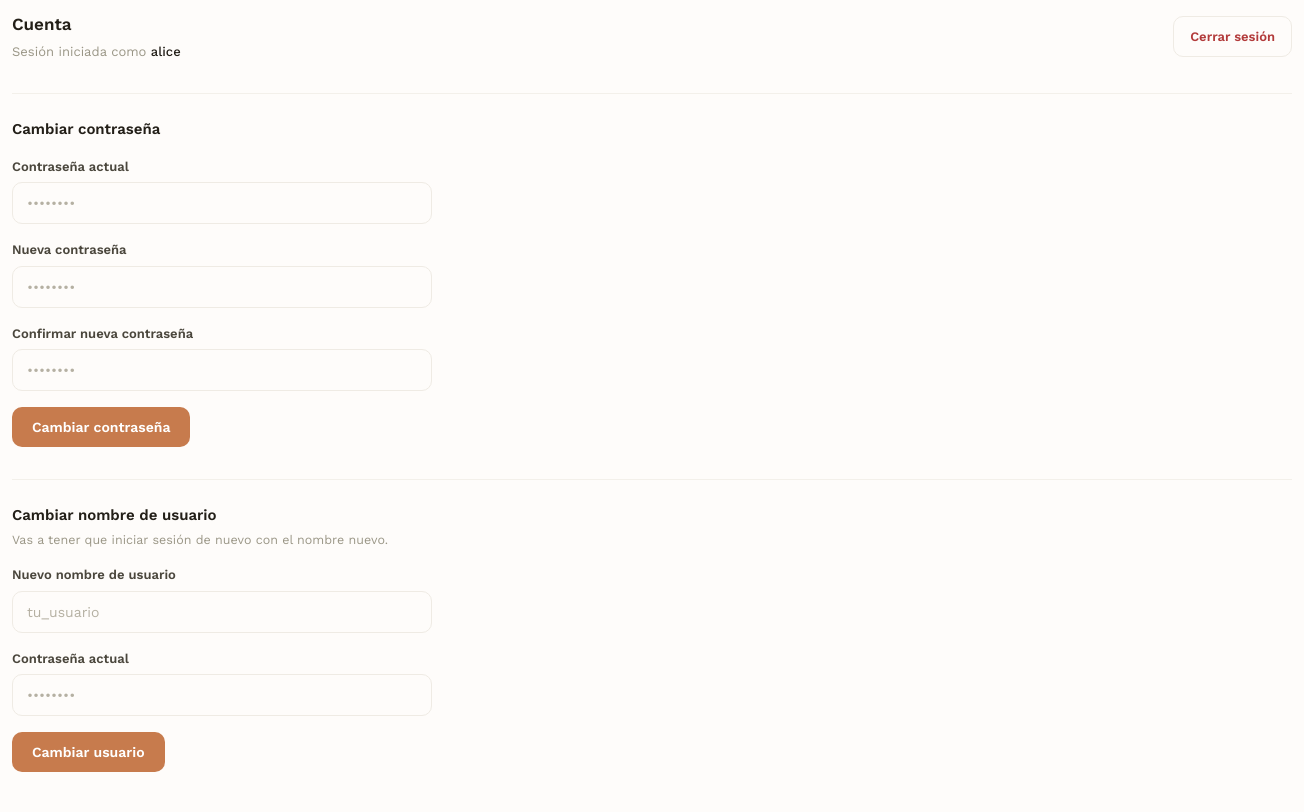
Scenario: CuentaTab › submits the change-password form and shows a success message
Type "current" into the 1st password field with placeholder "••••••••" at point(222, 203), box [12,182,432,224]
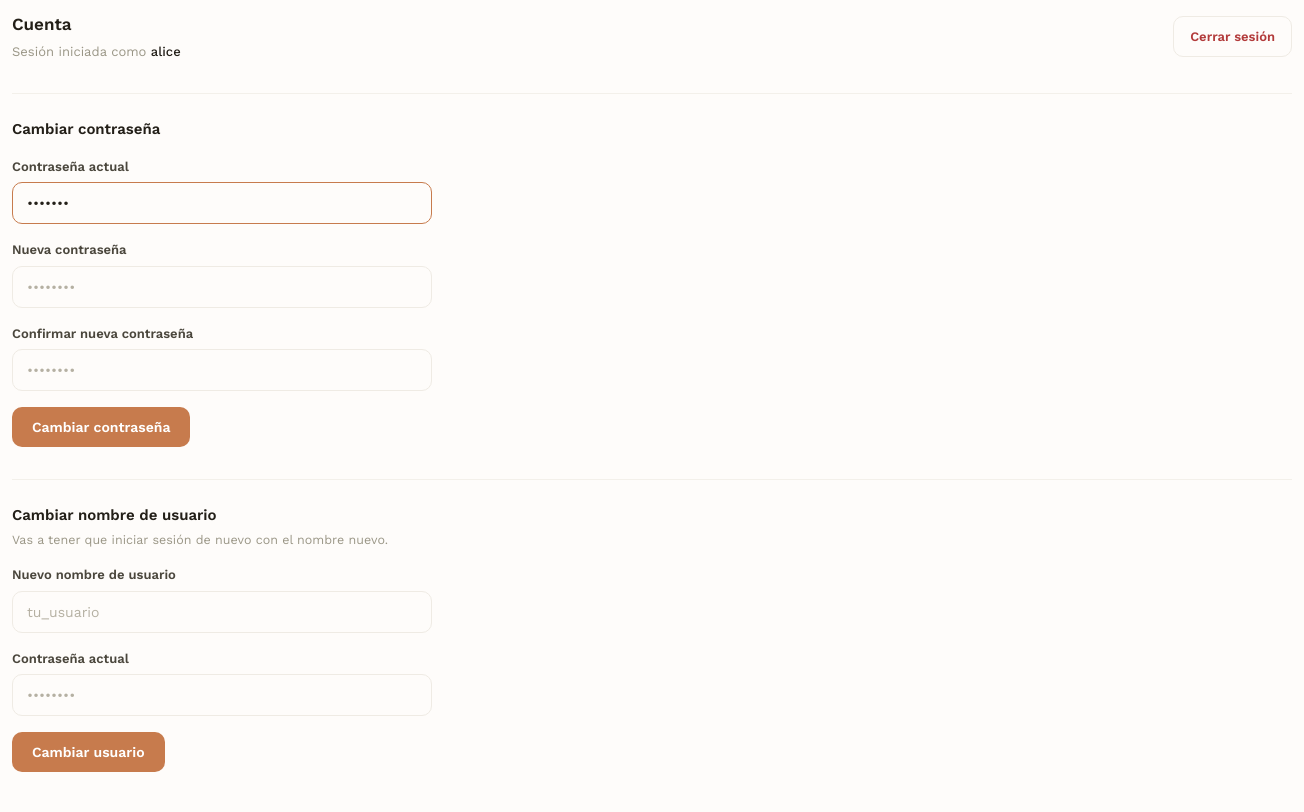
Type "newpassword" into the password field with placeholder "••••••••" at point(222, 286), box [12,266,432,308]
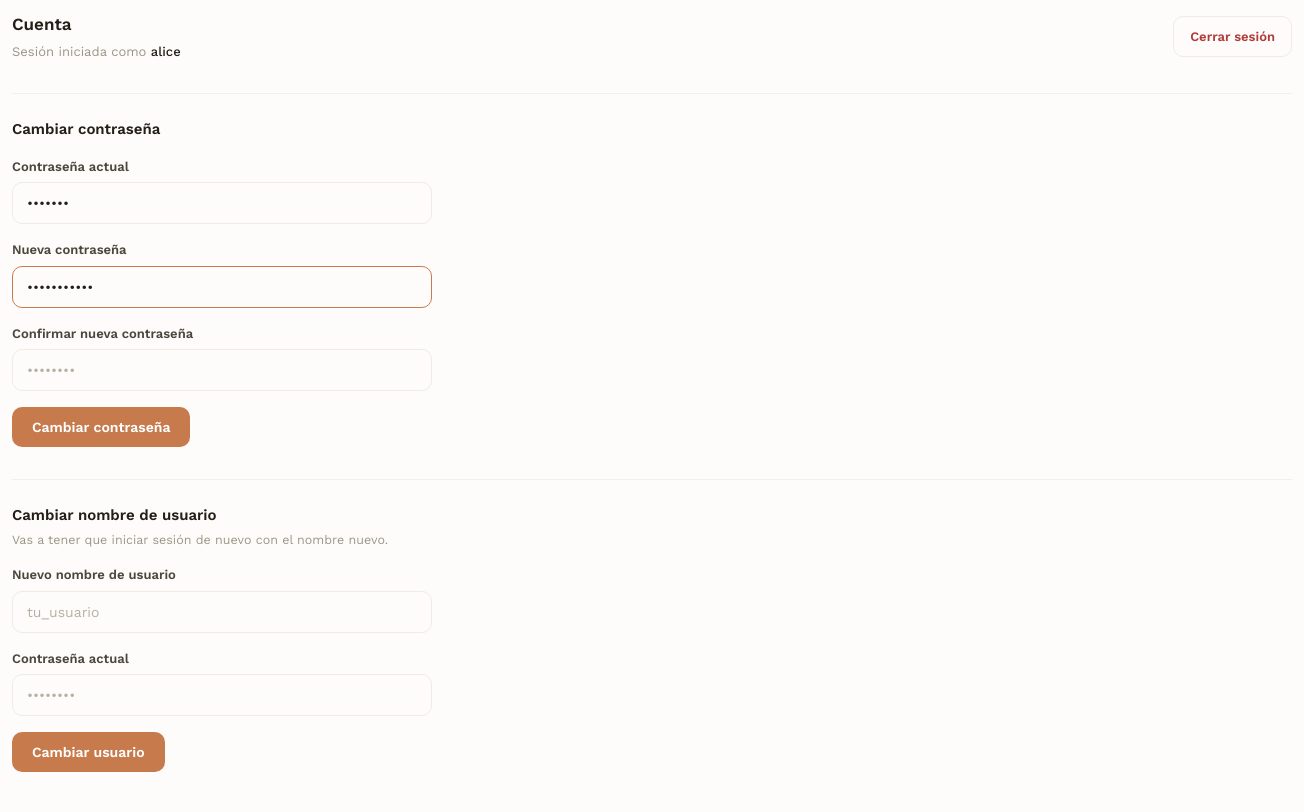
Type "newpassword" into the password field with placeholder "••••••••" at point(222, 370), box [12,349,432,391]
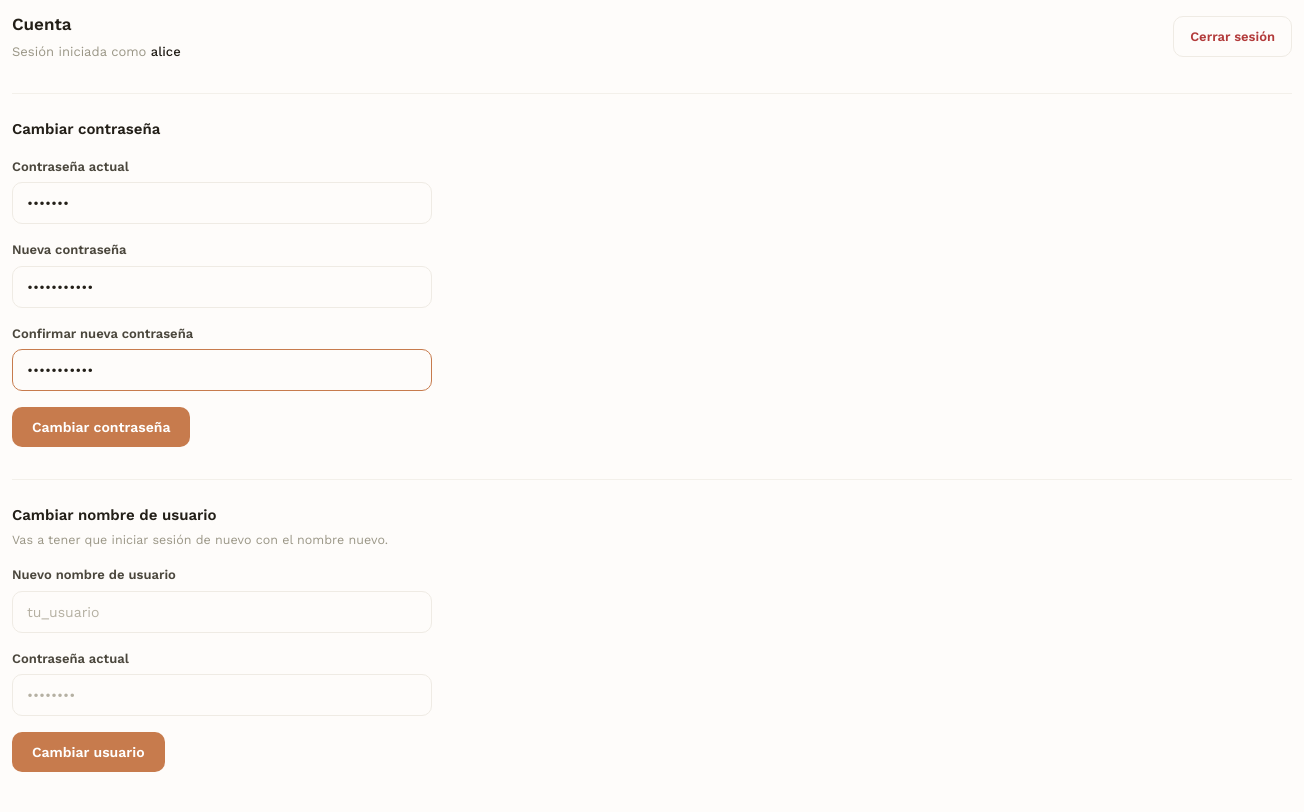
Click the button "Cambiar contraseña" at point(101, 427), box [12,407,190,447]
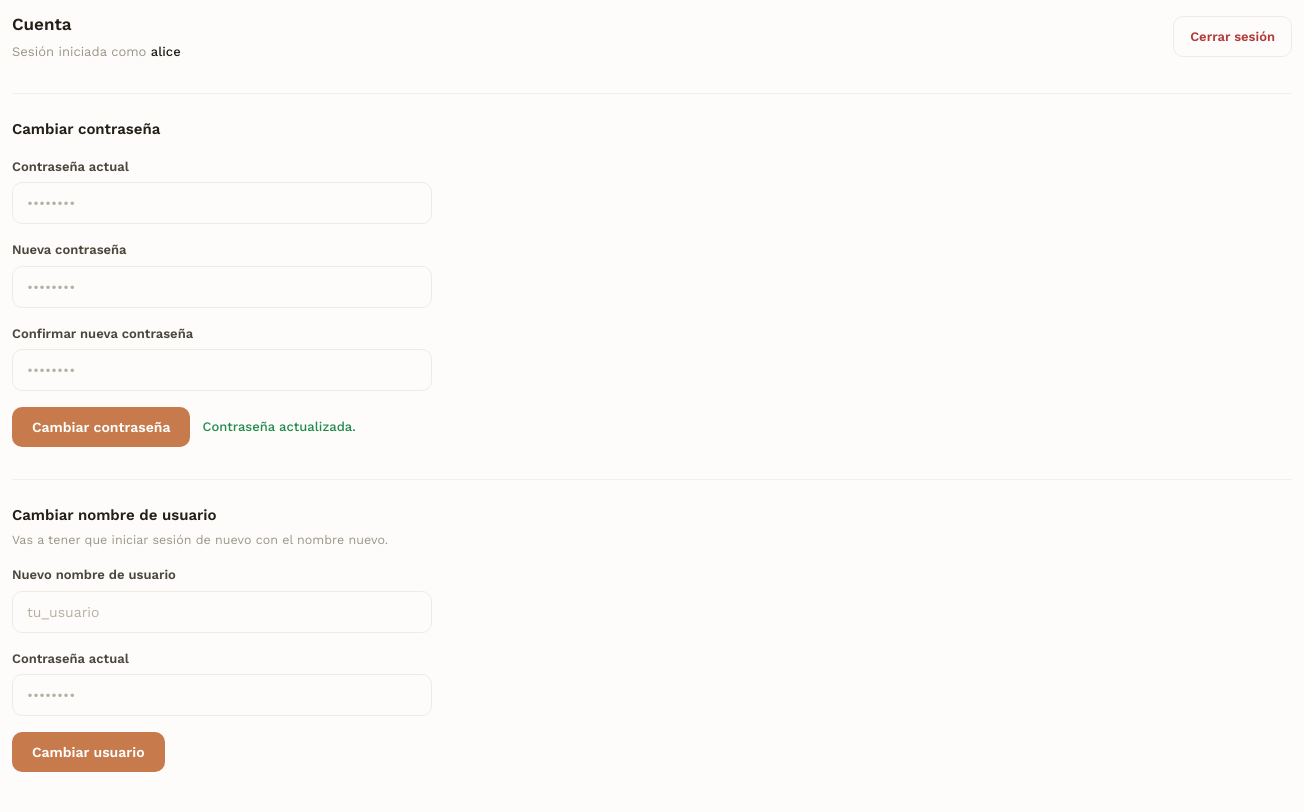
Check: the text "Contraseña actualizada." is shown, box [202,417,356,437]
